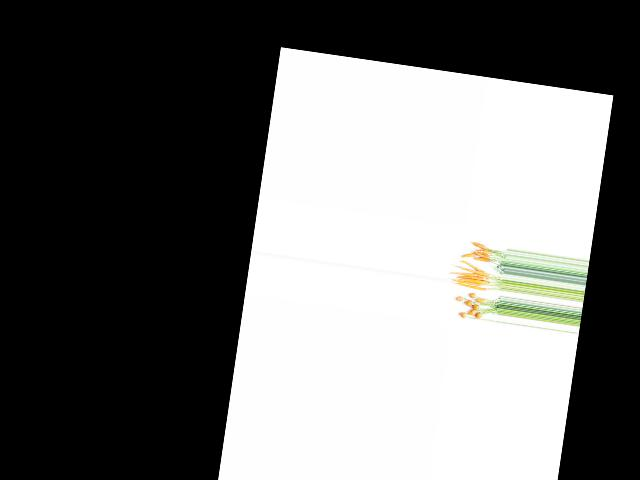carrot: (456, 309, 467, 318)
